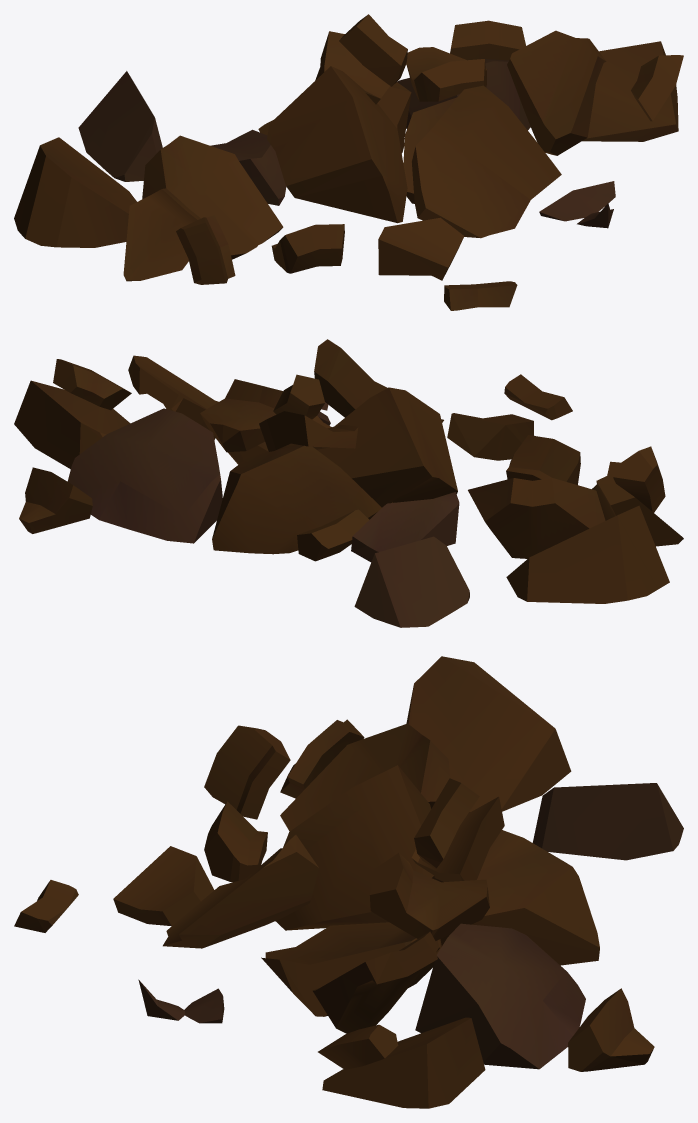
Rendered from rubble.glb.
3 views of the same model, one above another, from view 1: azimuth 30°, elevation 25°; view 2: azimuth 150°, elevation 25°; view 3: azimuth 270°, elevation 25° (orthographic). The views are drawn at different scales.
Parts seen in each view (by area): view 1: rubble; view 2: rubble; view 3: rubble.
Part boxes in pixels (x1,y1,x2,y2): rubble: [14, 14, 683, 310]; rubble: [14, 339, 683, 627]; rubble: [14, 656, 683, 1108].
Bounding box in the file's own units: 0.7969 × 0.1746 × 0.5984.
